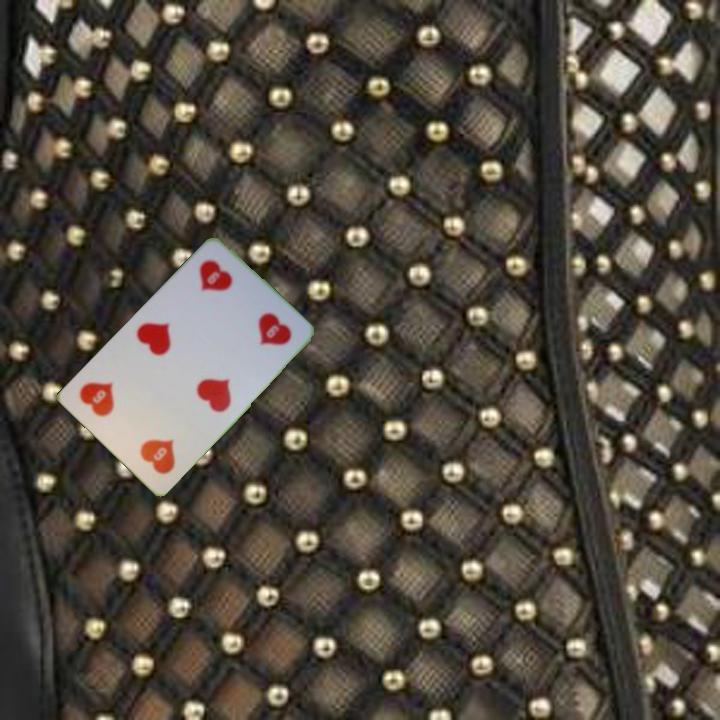h_6.png: (176, 246, 262, 332), (113, 399, 199, 485)
